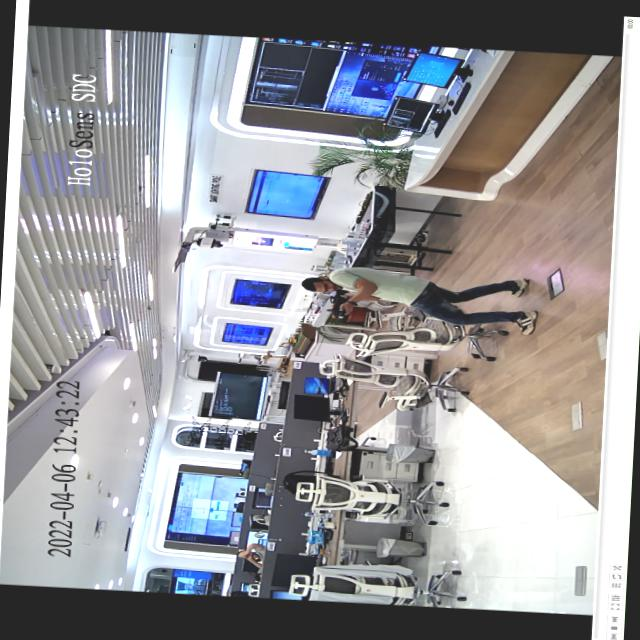long weapon: (321, 288, 359, 324)
